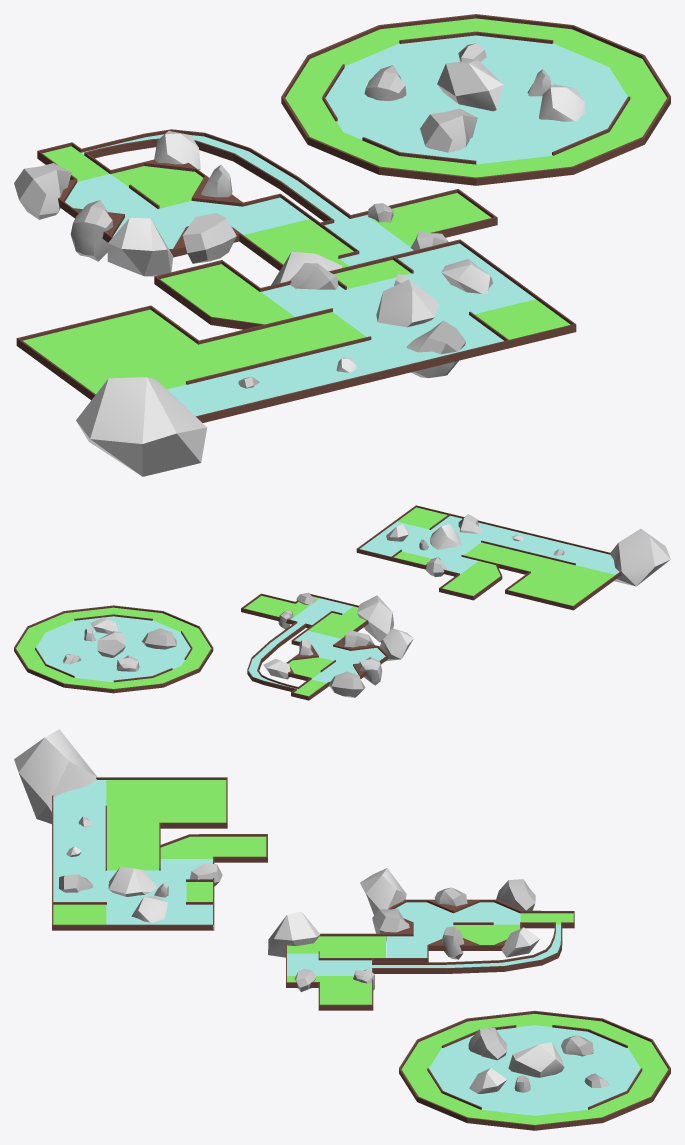
Rendered from HoleSet05_Ice.fbx.
3 views of the same model, one above another, from view 1: azimuth 30°, elevation 25°; view 2: azimuth 150°, elevation 25°; view 3: azimuth 270°, elevation 25° (orthographic). The views are drawn at different scales.
Visible parts, largest first — view 1: Cylinder.042, Cube.081, Cube.086, Cylinder.041, Cube.087, rock.334, Cube.083, Cube.084, Cylinder.043, Cube.079, Cube.080, rock.322 (+17 smaller); view 2: Cube.081, Cylinder.042, Cube.086, Cylinder.041, Cube.087, Cube.083, rock.334, Cube.079, Cube.084, Cylinder.043, Cube.080, rock.316 (+13 smaller); view 3: Cube.081, Cylinder.042, Cube.086, Cylinder.041, Cube.083, rock.334, Cube.087, Cube.084, Cube.079, Cylinder.043, Cube.080, rock.328 (+11 smaller).
Boxes of the visible parts, x1,y1,x2,y2 form: Cylinder.042: (325, 35, 627, 164); Cube.081: (23, 260, 570, 393); Cube.086: (167, 243, 535, 416); Cylinder.041: (285, 18, 666, 177); Cube.087: (16, 239, 576, 422); rock.334: (76, 377, 207, 476); Cube.083: (37, 129, 497, 270); Cube.084: (65, 174, 308, 248); Cylinder.043: (281, 14, 670, 185); Cube.079: (244, 193, 491, 267); Cube.080: (82, 134, 413, 266); rock.322: (107, 218, 173, 276); Cube.081: (394, 507, 614, 605); Cylinder.042: (36, 616, 190, 682); Cube.086: (360, 515, 619, 574); Cylinder.041: (16, 607, 211, 688); Cube.087: (356, 505, 621, 610); Cube.083: (241, 593, 388, 700); rock.334: (610, 528, 670, 586); Cube.079: (244, 595, 365, 638); Cube.084: (294, 630, 385, 683); Cylinder.043: (14, 605, 213, 693); Cube.080: (248, 598, 352, 689); rock.316: (357, 595, 393, 642); Cube.081: (53, 780, 266, 924); Cylinder.042: (429, 1025, 640, 1115); Cube.086: (53, 780, 213, 929); Cylinder.041: (401, 1014, 668, 1124); Cube.083: (286, 899, 574, 1010); rock.334: (14, 729, 97, 823); Cube.087: (52, 777, 267, 930); Cube.084: (386, 902, 520, 957); Cube.079: (287, 936, 385, 1004); Cylinder.043: (399, 1010, 670, 1130); Cube.080: (287, 924, 560, 975); rock.328: (508, 1042, 564, 1077).
Bounding box in the file's own units: 5451 × 1007 × 4897.
